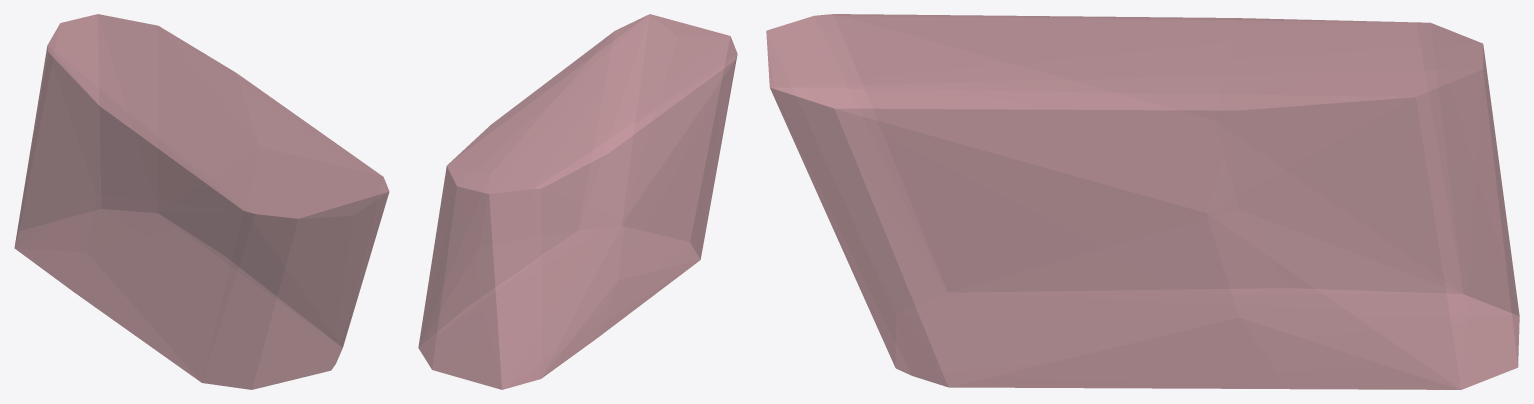
3 views of the same model, side by side, from view 1: azimuth 30°, elevation 25°; view 2: azimuth 150°, elevation 25°; view 3: azimuth 270°, elevation 25° (orthographic). The views are drawn at different scales.
Parts seen in each view (by area): view 1: Shape_IndexedFaceSet.004_Shape_IndexedFaceSet.1308; view 2: Shape_IndexedFaceSet.004_Shape_IndexedFaceSet.1308; view 3: Shape_IndexedFaceSet.004_Shape_IndexedFaceSet.1308.
Part boxes in pixels (x1,y1,x2,y2): Shape_IndexedFaceSet.004_Shape_IndexedFaceSet.1308: (14, 14, 389, 389); Shape_IndexedFaceSet.004_Shape_IndexedFaceSet.1308: (418, 14, 737, 389); Shape_IndexedFaceSet.004_Shape_IndexedFaceSet.1308: (766, 14, 1519, 389).
Size of the model in its own units: 0.2176 by 0.2777 by 0.6408.
